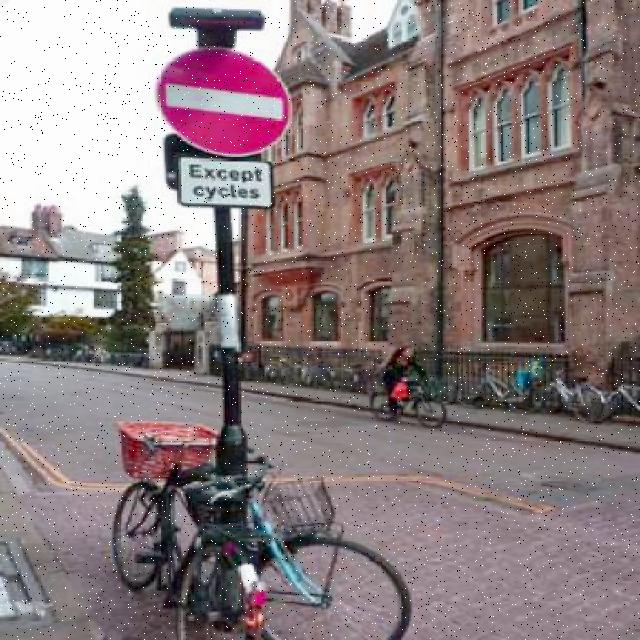Zakaz wjazdu: (151, 46, 307, 157)
